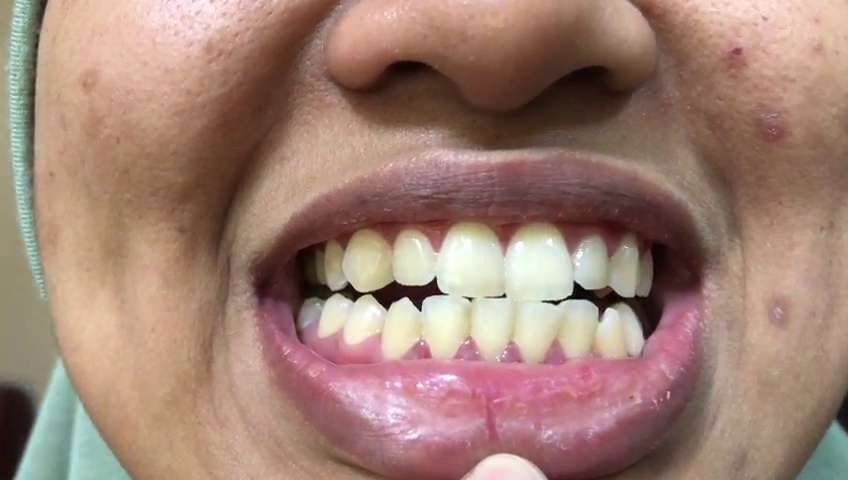1st Molar: (294, 293, 325, 336)
1st Premolar: (340, 292, 387, 350), (612, 299, 646, 361), (323, 243, 344, 291), (638, 245, 653, 299)
2nd Premolar: (318, 292, 351, 343)
Canine: (344, 225, 389, 291), (381, 296, 421, 360), (596, 305, 629, 365), (611, 231, 640, 299)
Central Incisor: (504, 219, 575, 301), (437, 219, 505, 299), (512, 300, 561, 368), (471, 297, 511, 359)
Lateral Incisor: (422, 297, 470, 361), (557, 297, 598, 365), (392, 222, 436, 284), (573, 231, 611, 288)
